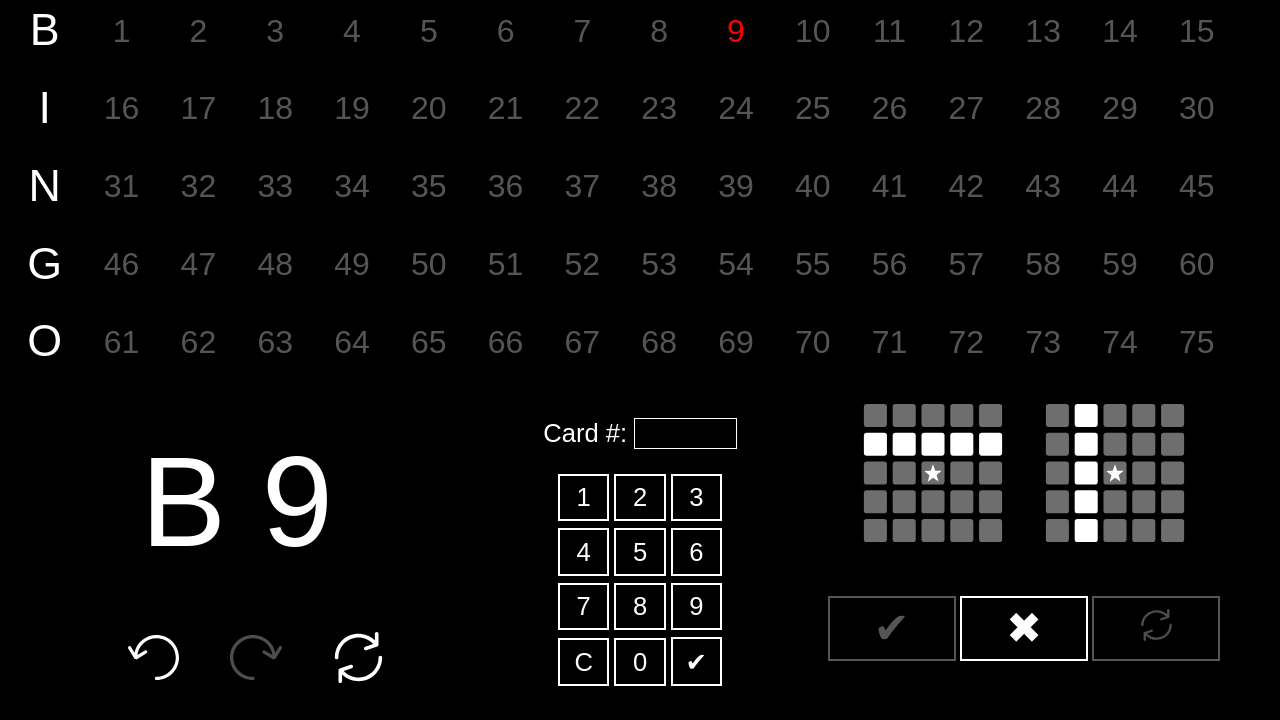
control mode › drawing is blocked while checking a bingo
Click the button "10" at x=813, y=31, box [774, 4, 851, 59]
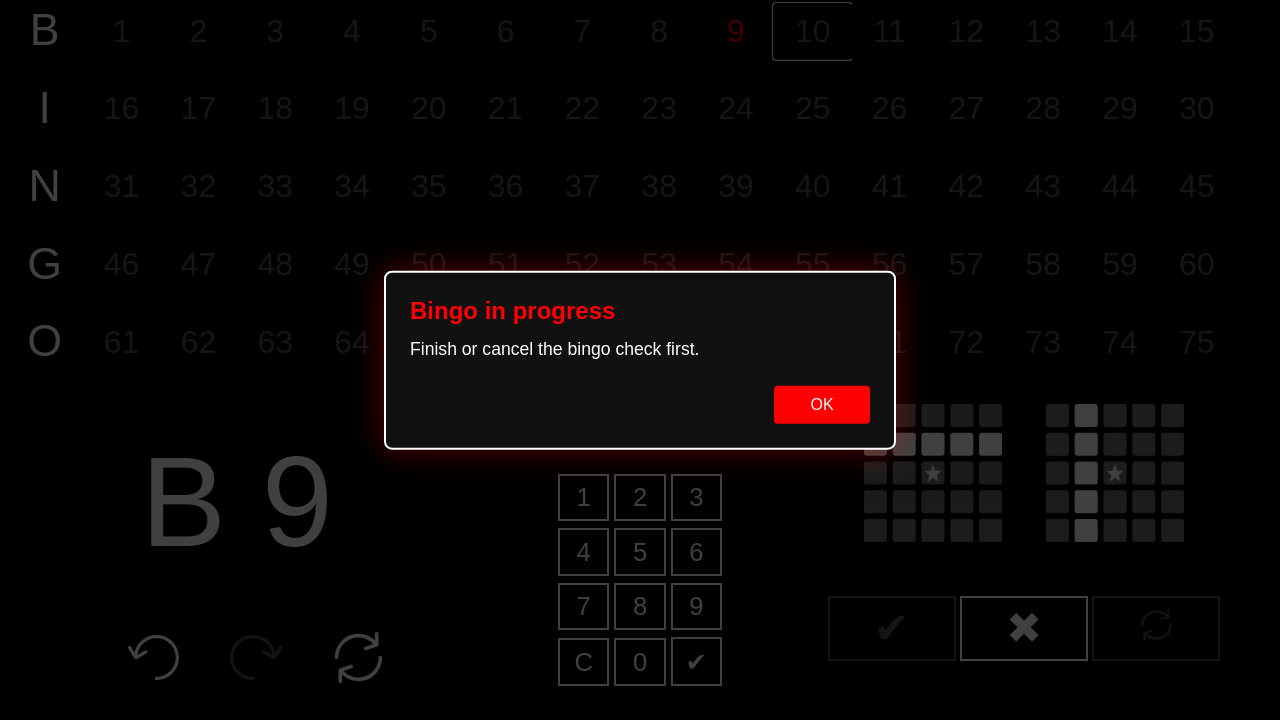
Check: the dialog "Bingo in progress" is shown, box [384, 271, 896, 449]
